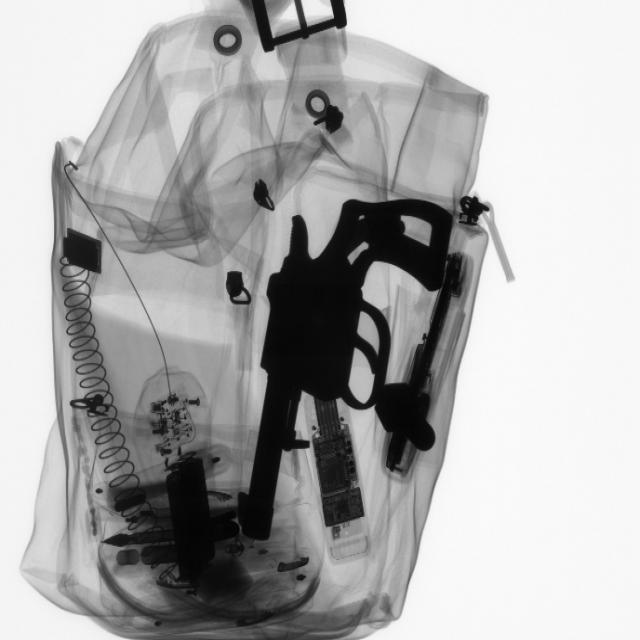GUN: (246, 192, 446, 522)
